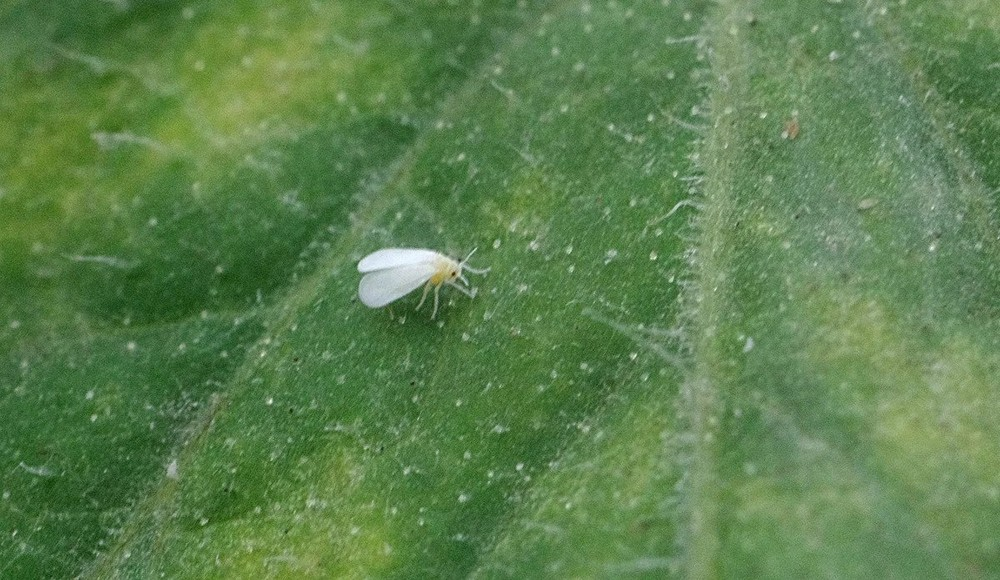Mosca Blanca: (344, 228, 505, 326)
